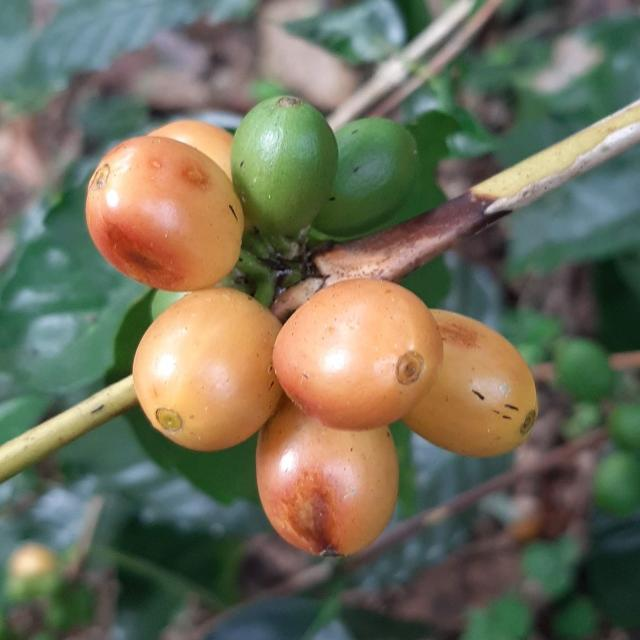green: (256, 399, 399, 557), (231, 95, 338, 245), (314, 117, 418, 237)
red: (273, 278, 444, 431), (132, 288, 283, 452), (85, 136, 244, 291), (402, 310, 539, 458), (148, 119, 233, 181)
